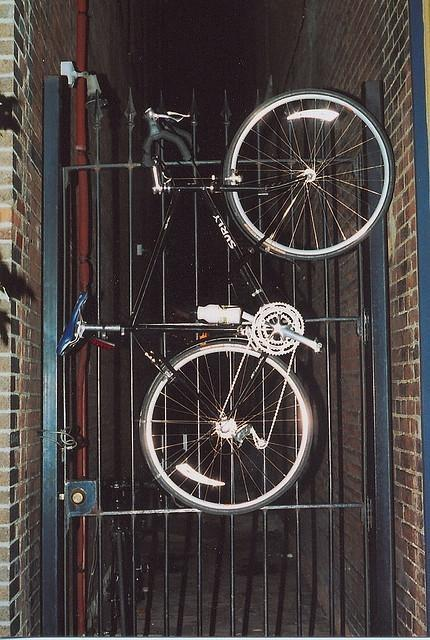bicycle: (53, 94, 391, 524)
